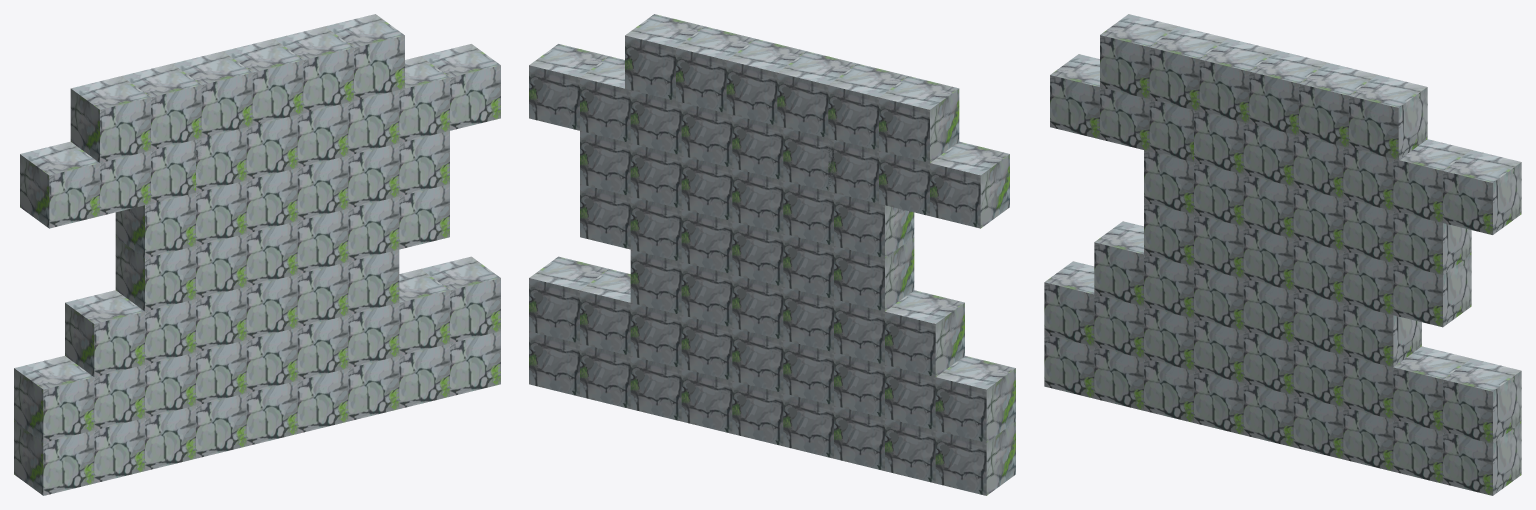
File: BrickWall4.fbx
3 renders of one model, left to right at view 1: azimuth 30°, elevation 25°; view 2: azimuth 150°, elevation 25°; view 3: azimuth 330°, elevation 25°, orthographic.
Visible parts, largest first — view 1: pCube126; view 2: pCube126; view 3: pCube126.
Boxes of the visible parts, x1=… form: pCube126: x1=14, y1=14, x2=500, y2=495; pCube126: x1=529, y1=14, x2=1015, y2=495; pCube126: x1=1044, y1=14, x2=1521, y2=495.
Size of the model in its own units: 3600 by 2800 by 400.
